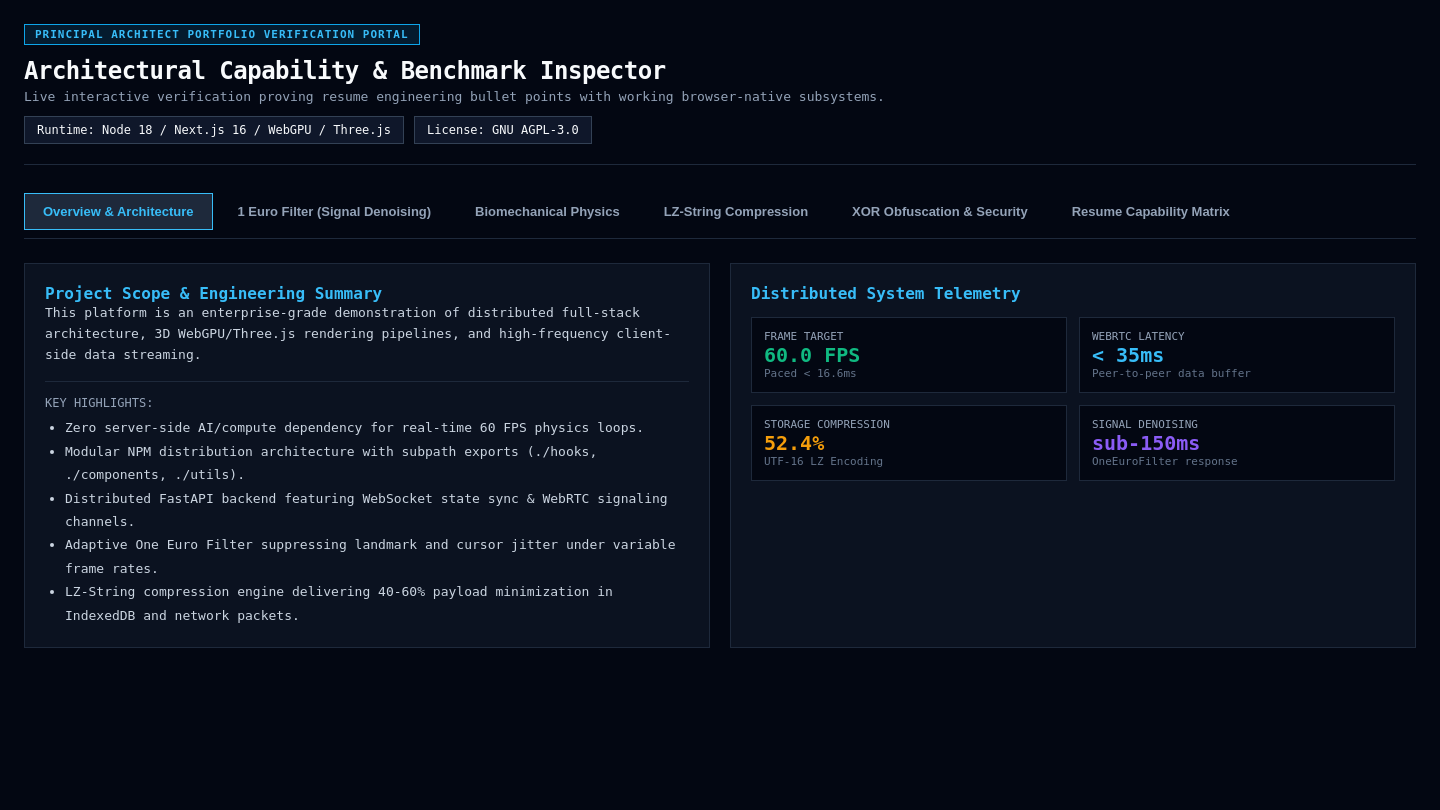
Component Rendering: RecruiterPortal › switches tabs to Resume Capability Matrix
Click the button "Resume Capability Matrix" at (1151, 212), box [1053,193,1249,230]
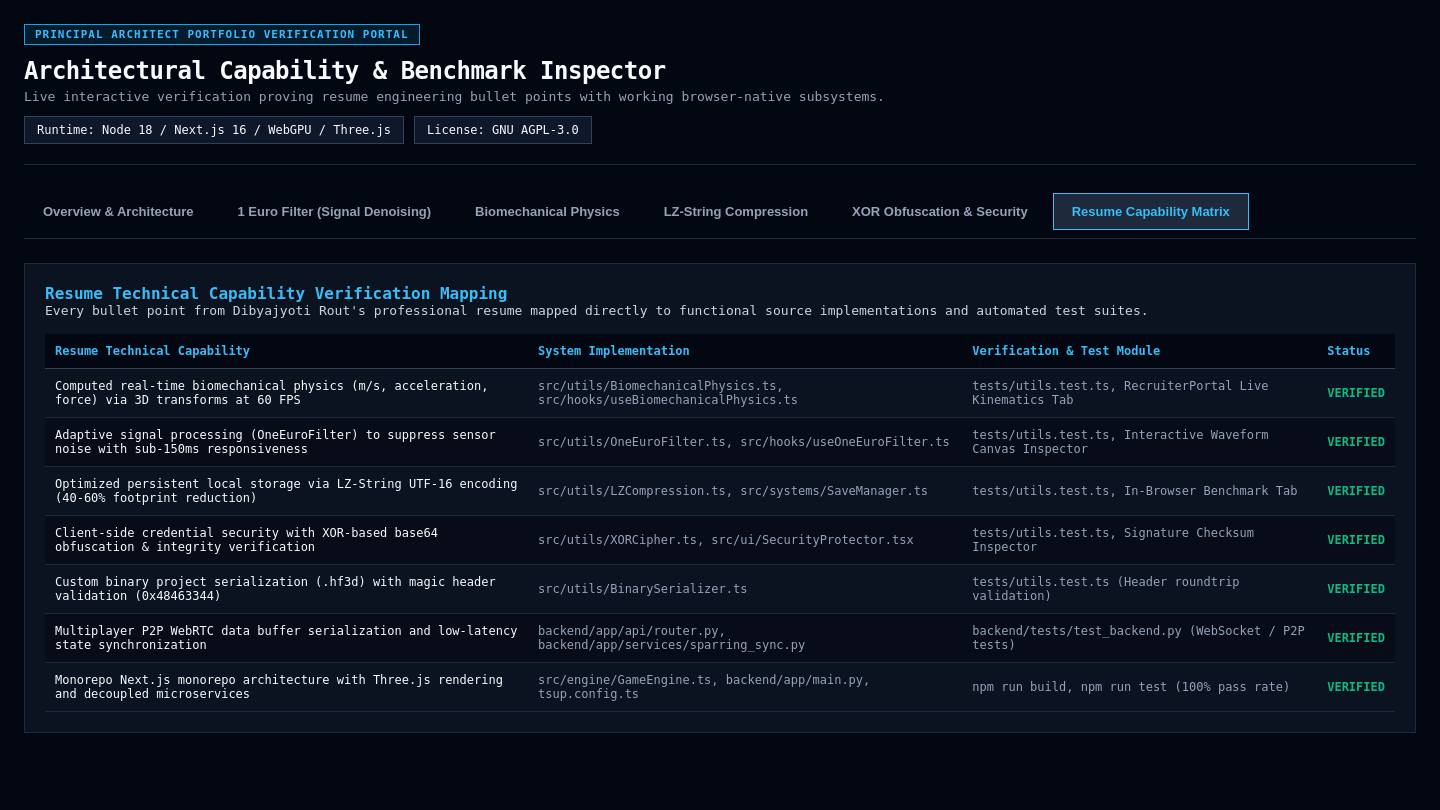
Expected: the heading "Resume Technical Capability Verification Mapping" is shown, [45,284,507,303]
